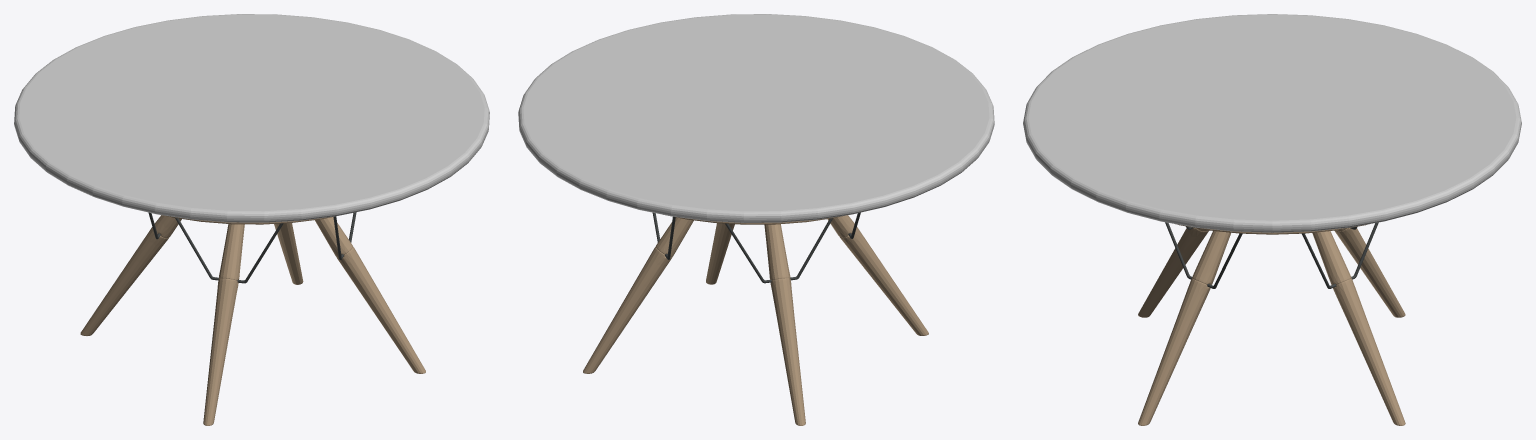
File: normalcircle.obj
3 views of the same model, side by side, from view 1: azimuth 30°, elevation 25°; view 2: azimuth 150°, elevation 25°; view 3: azimuth 270°, elevation 25° (orthographic). The views are drawn at different scales.
Visible parts, largest first — view 1: Model.001_Group3, Group15, Group11, Group19, Group7, Group14; view 2: Model.001_Group3, Group19, Group7, Group15, Group11, Group18; view 3: Model.001_Group3, Group11, Group7, Group19, Group15, Group10, Group6.
Boxes of the visible parts, <box> form: Model.001_Group3: <box>14,14,489,222</box>; Group15: <box>203,224,244,425</box>; Group11: <box>315,217,425,373</box>; Group19: <box>80,215,181,335</box>; Group7: <box>274,223,303,284</box>; Group14: <box>175,218,283,283</box>; Model.001_Group3: <box>518,14,994,222</box>; Group19: <box>764,224,805,425</box>; Group7: <box>583,217,693,373</box>; Group15: <box>827,215,928,335</box>; Group11: <box>706,223,734,284</box>; Group18: <box>725,218,832,283</box>; Model.001_Group3: <box>1023,14,1521,232</box>; Group11: <box>1138,231,1230,425</box>; Group7: <box>1312,231,1405,425</box>; Group19: <box>1334,228,1405,317</box>; Group15: <box>1138,228,1209,317</box>; Group10: <box>1165,222,1242,288</box>; Group6: <box>1302,222,1378,288</box>.
Bounding box in the file's own units: 1.4 × 0.7795 × 1.4.
